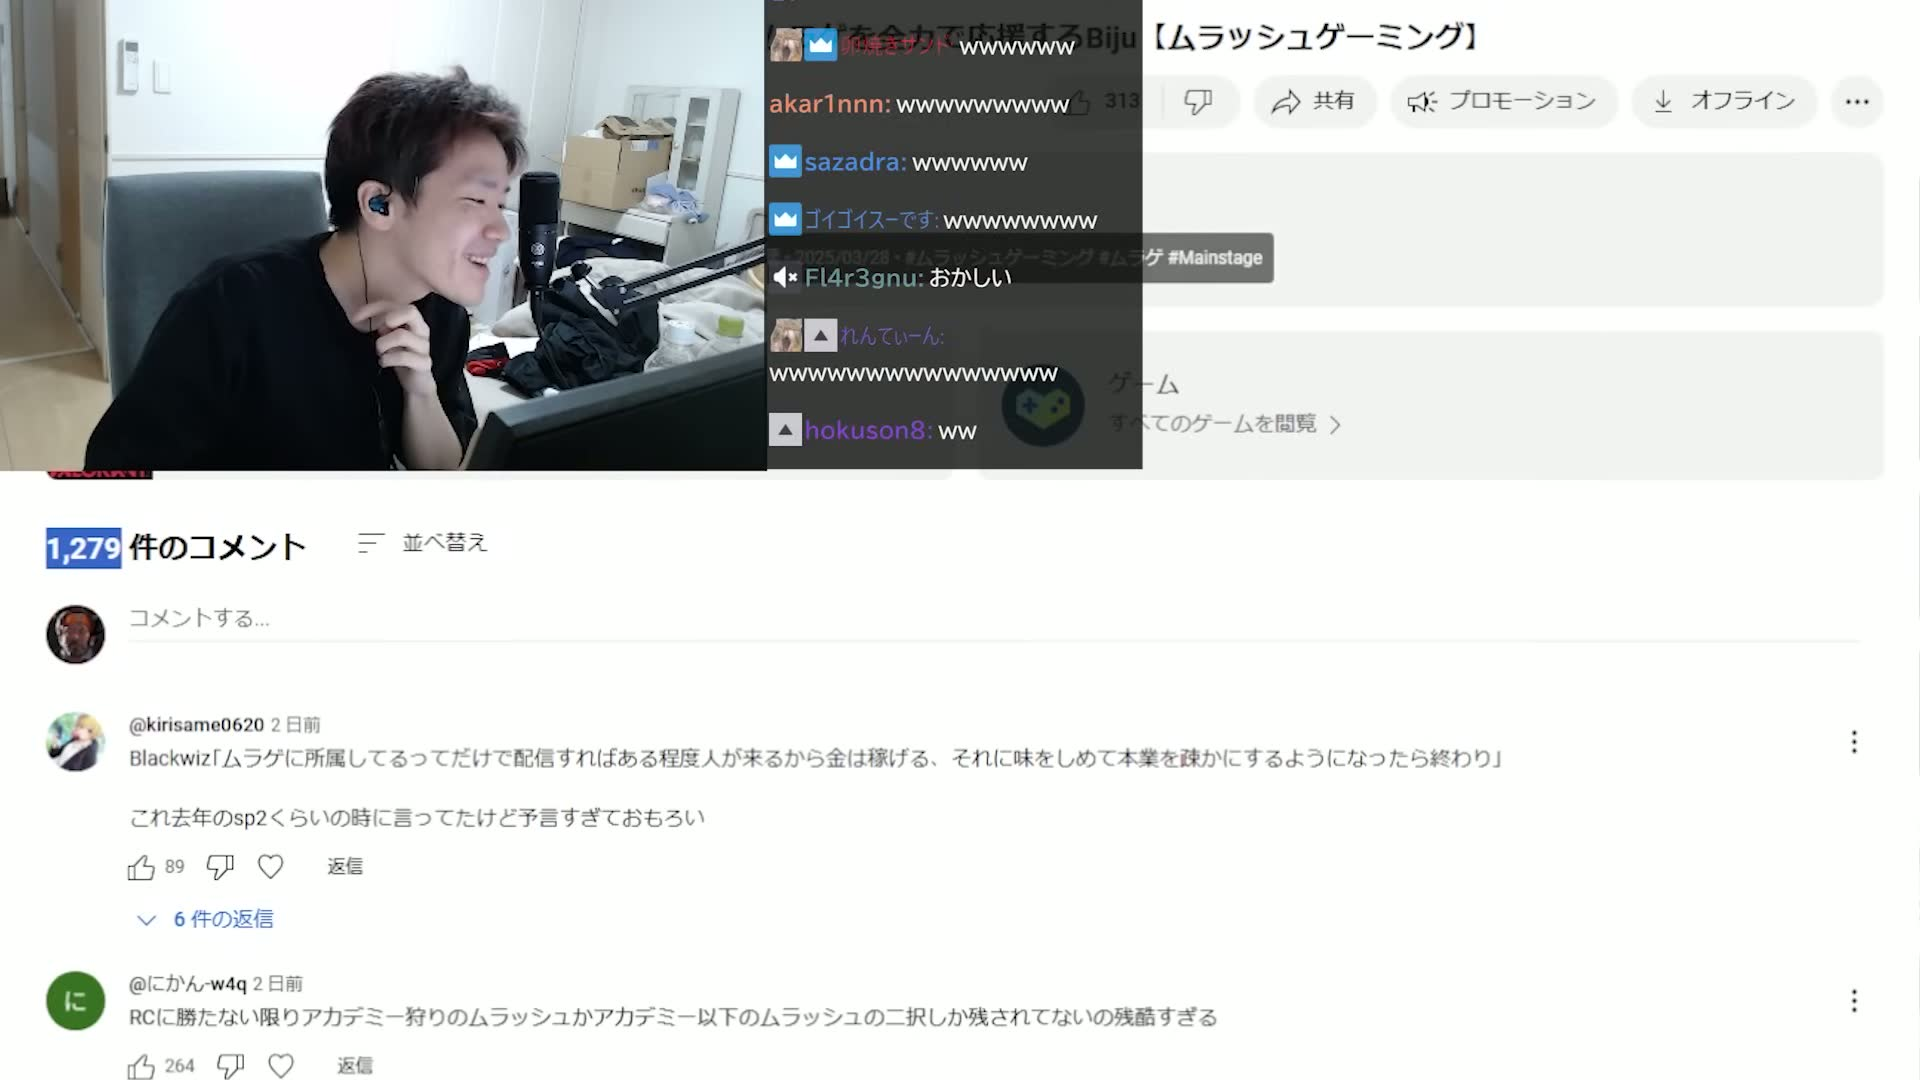stream_tag: (1, 1, 766, 469)
